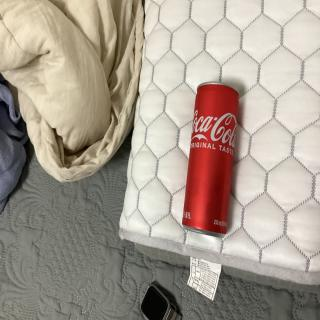cocacola: (182, 77, 244, 250)
